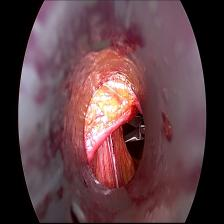Scissors: (120, 111, 148, 149)
